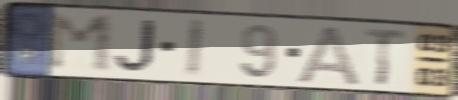9: (239, 22, 278, 81)
A: (291, 23, 363, 88)
I: (184, 16, 206, 79)
J: (113, 18, 157, 74)
M: (44, 12, 115, 75)
T: (363, 26, 410, 88)
